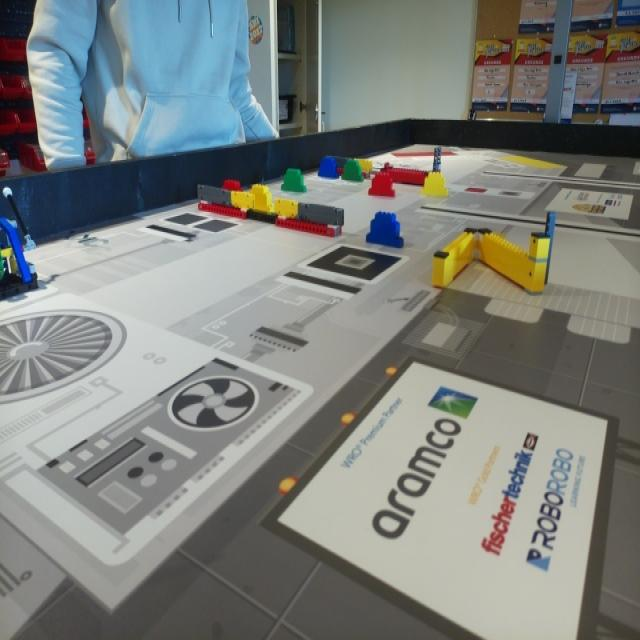blau: (368, 214, 402, 247), (320, 158, 336, 178)
gruen: (280, 168, 309, 194), (341, 158, 364, 181)
rot: (368, 174, 399, 198), (222, 180, 241, 190)
yellow: (251, 184, 271, 209), (424, 173, 446, 194)
